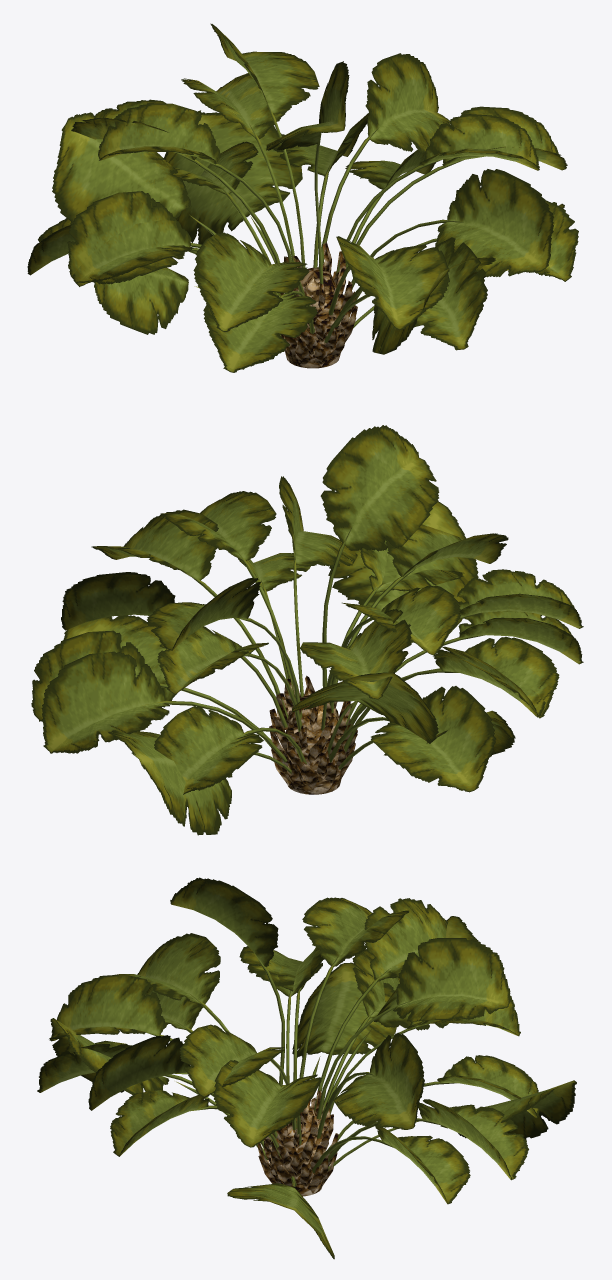
File: SM_TI_Palm_SpikyTrunk_0.fbx
3 views of the same model, one above another, from view 1: azimuth 30°, elevation 25°; view 2: azimuth 150°, elevation 25°; view 3: azimuth 270°, elevation 25° (orthographic). The views are drawn at different scales.
Parts seen in each view (by area): view 1: SM_TI_Palm_SpikyTrunk_0; view 2: SM_TI_Palm_SpikyTrunk_0; view 3: SM_TI_Palm_SpikyTrunk_0.
Boxes of the visible parts, left/top/right/bottom form: SM_TI_Palm_SpikyTrunk_0: left=27, top=23, right=578, bottom=372; SM_TI_Palm_SpikyTrunk_0: left=31, top=425, right=583, bottom=835; SM_TI_Palm_SpikyTrunk_0: left=37, top=877, right=576, bottom=1259.
Bounding box in the file's own units: 7.78 × 8.35 × 4.92.
